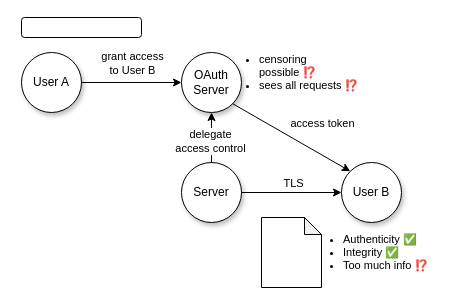
The diagram is 455 pixels wide and 305 high, and some of its shapes have lost their labels. The centre of each missing label's shape, as x and y in pixels:
"Status Quo" goes at [81,27].
"🔐 signed data" goes at [291,252].
